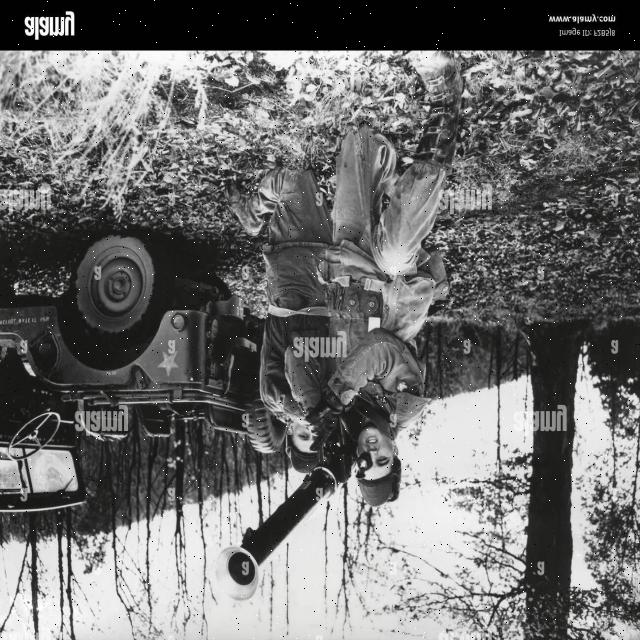bazooka: (209, 432, 370, 608)
